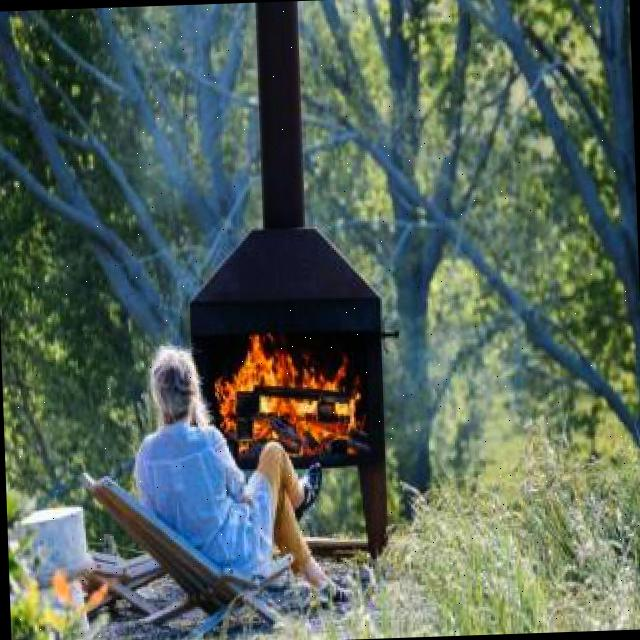fire: (206, 321, 367, 472)
